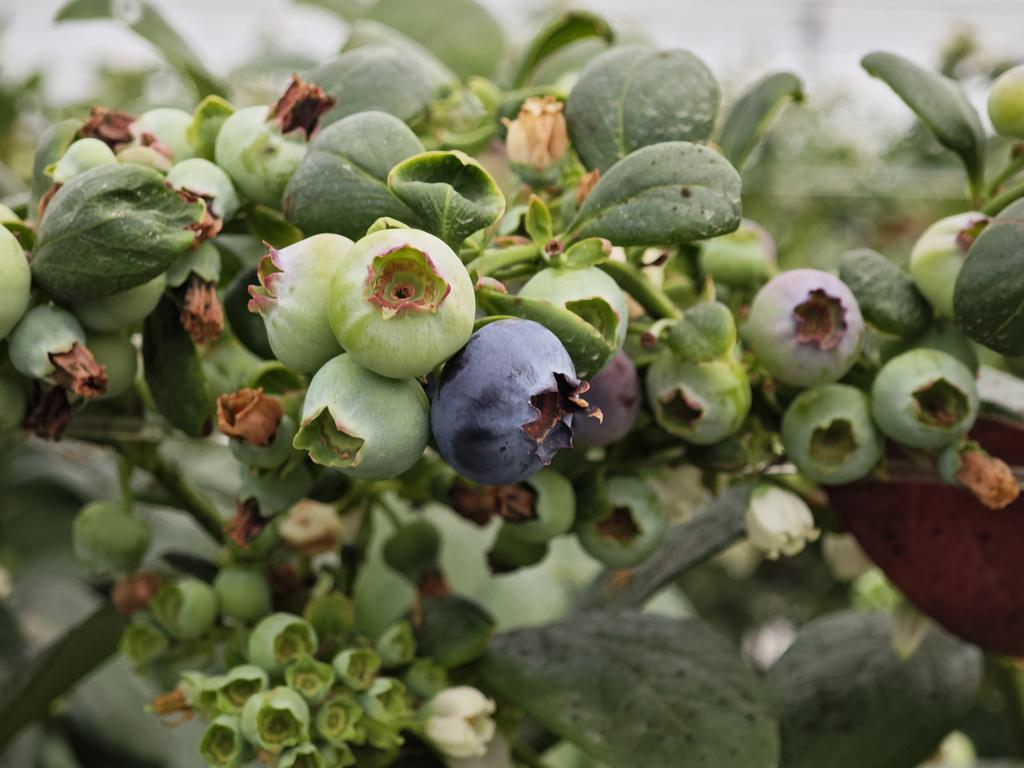RipeBlueBerry: (434, 317, 583, 487)
UnripeBlueBerry: (331, 229, 474, 377), (293, 360, 429, 480), (255, 233, 352, 370), (874, 347, 979, 446), (780, 389, 881, 481)
